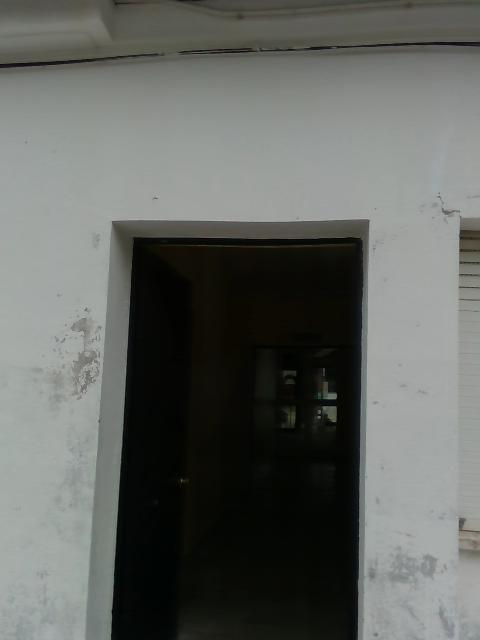open_door: (86, 216, 366, 638)
